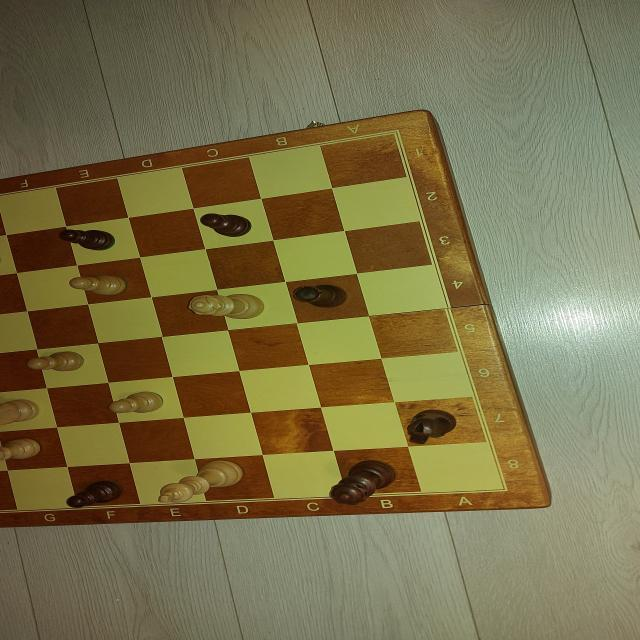chess-table-corners: (365, 119, 419, 150), (474, 472, 526, 504)
